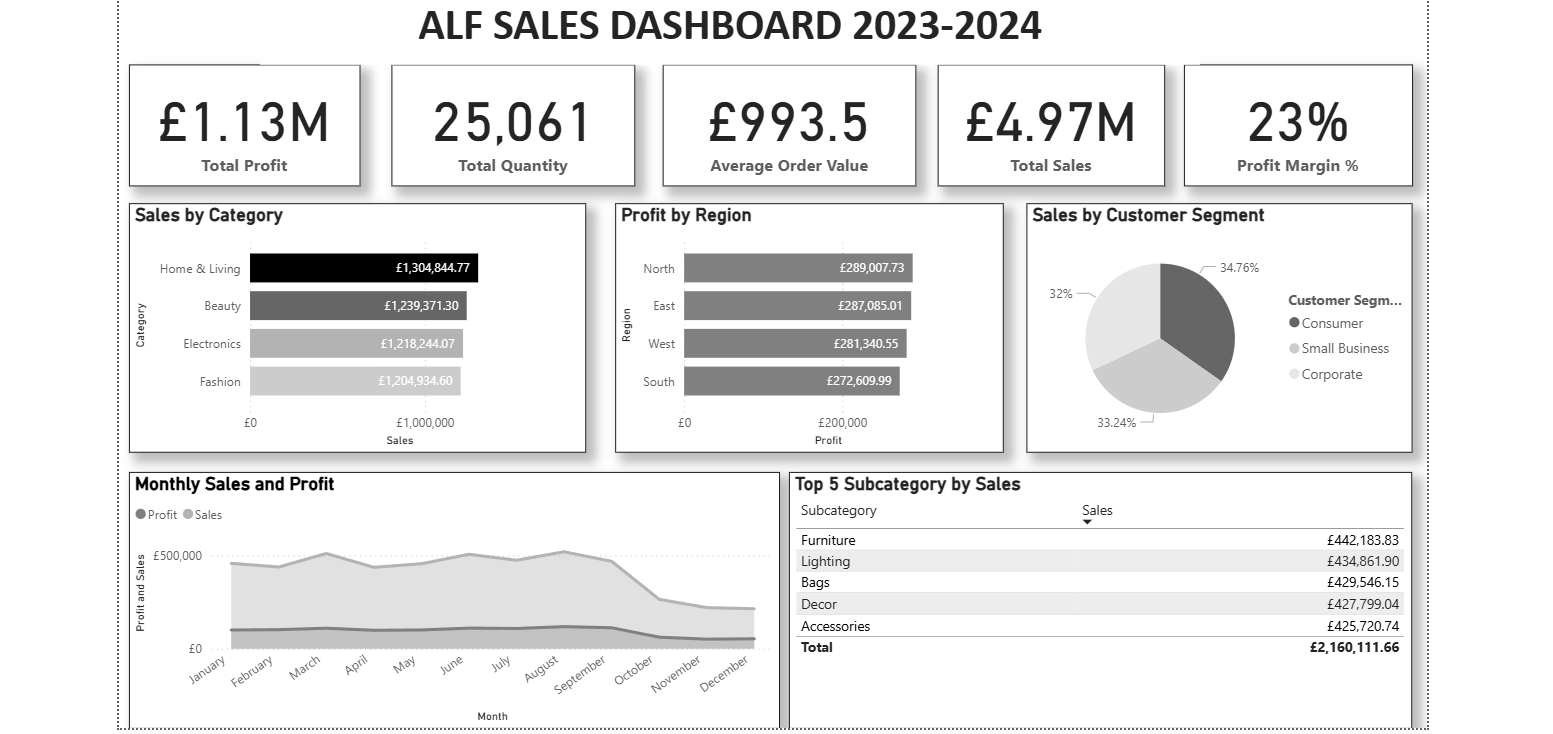

Layout of this report page (visuals, bound fields, positions):
{"tool":"powerbi","page":{"name":"Page 1","canvas":[1280,720],"ordinal":0},"visuals":[{"type":"card","fields":{"Values":["Table1.TotaL Sales"]},"box":[9.6,71.4,226.4,119.4],"z":0},{"type":"card","fields":{"Values":["Table1.Profit Margin %"]},"box":[1041.5,71.4,223.7,119.4],"z":1000},{"type":"card","fields":{"Values":["Table1.Total Quantity"]},"box":[266.2,71.4,238.8,119.4],"z":2000},{"type":"card","fields":{"Values":["Table1.Total Sales"]},"box":[801.4,71.4,222.3,119.4],"z":3000},{"type":"actionButton","box":[0,0,100,40],"z":4000},{"type":"card","fields":{"Values":["Table1.Average Order Value"]},"box":[532.4,71.4,248.4,119.4],"z":5000},{"type":"areaChart","title":"Monthly Sales and Profit","fields":{"Category":["Table1.Order Date.Variation.Date Hierarchy.Month"],"Y":["Sum(Table1.Profit)","Sum(Table1.Sales)"]},"box":[9.6,469.3,636.7,251.1],"z":6000},{"type":"barChart","fields":{"Category":["Table1.Category"],"Y":["Sum(Table1.Sales)"]},"box":[9.6,207.2,447.3,244.3],"z":7000},{"type":"barChart","fields":{"Y":["Sum(Table1.Profit)"],"Category":["Table1.Region"]},"box":[485.8,207.2,380.1,244.3],"z":8000},{"type":"pieChart","fields":{"Y":["Sum(Table1.Sales)"],"Category":["Table1.Customer Segment"]},"box":[887.8,207.2,377.4,244.3],"z":9000},{"type":"tableEx","title":"Top 5 Subcategory by Sales ","fields":{"Values":["Table1.Subcategory","Sum(Table1.Sales)"]},"box":[655.9,469.3,609.3,251.1],"z":10000},{"type":"textbox","box":[138.6,0,919.4,71.4],"z":11000}]}

Visuals, with their boxes on the page's 1280x720 design canvas (x1, y1, x2, y2). These are canvas units, not pixel positions in the 1553x734 screenshot, which may show the page scaled, cropped or inside an application window:
card - Table1.TotaL Sales: pyautogui.locateOnScreen(10, 71, 236, 191)
card - Table1.Profit Margin %: pyautogui.locateOnScreen(1042, 71, 1265, 191)
card - Table1.Total Quantity: pyautogui.locateOnScreen(266, 71, 505, 191)
card - Table1.Total Sales: pyautogui.locateOnScreen(801, 71, 1024, 191)
actionButton: pyautogui.locateOnScreen(0, 0, 100, 40)
card - Table1.Average Order Value: pyautogui.locateOnScreen(532, 71, 781, 191)
"Monthly Sales and Profit" areaChart: pyautogui.locateOnScreen(10, 469, 646, 720)
barChart - Table1.Category x Sum(Table1.Sales): pyautogui.locateOnScreen(10, 207, 457, 452)
barChart - Sum(Table1.Profit) x Table1.Region: pyautogui.locateOnScreen(486, 207, 866, 452)
pieChart - Sum(Table1.Sales) x Table1.Customer Segment: pyautogui.locateOnScreen(888, 207, 1265, 452)
"Top 5 Subcategory by Sales " tableEx: pyautogui.locateOnScreen(656, 469, 1265, 720)
textbox: pyautogui.locateOnScreen(139, 0, 1058, 71)
